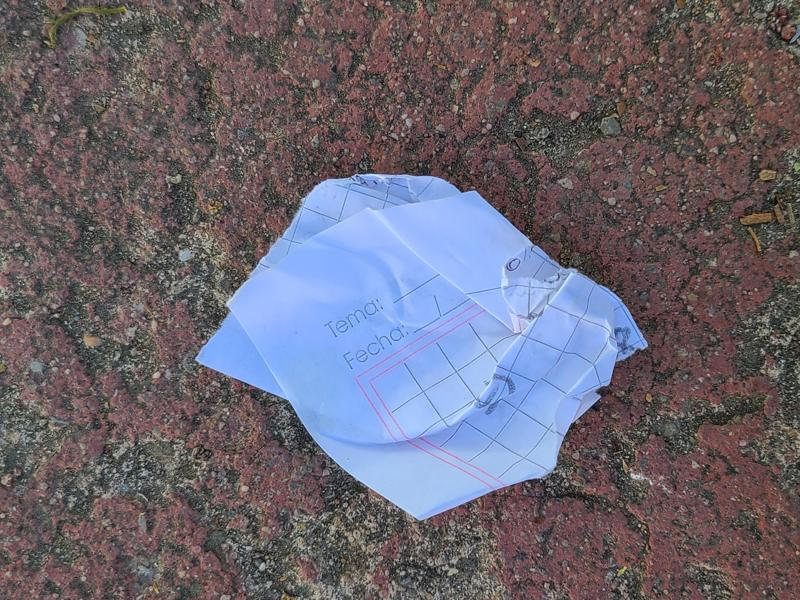papel: (195, 174, 648, 522)
